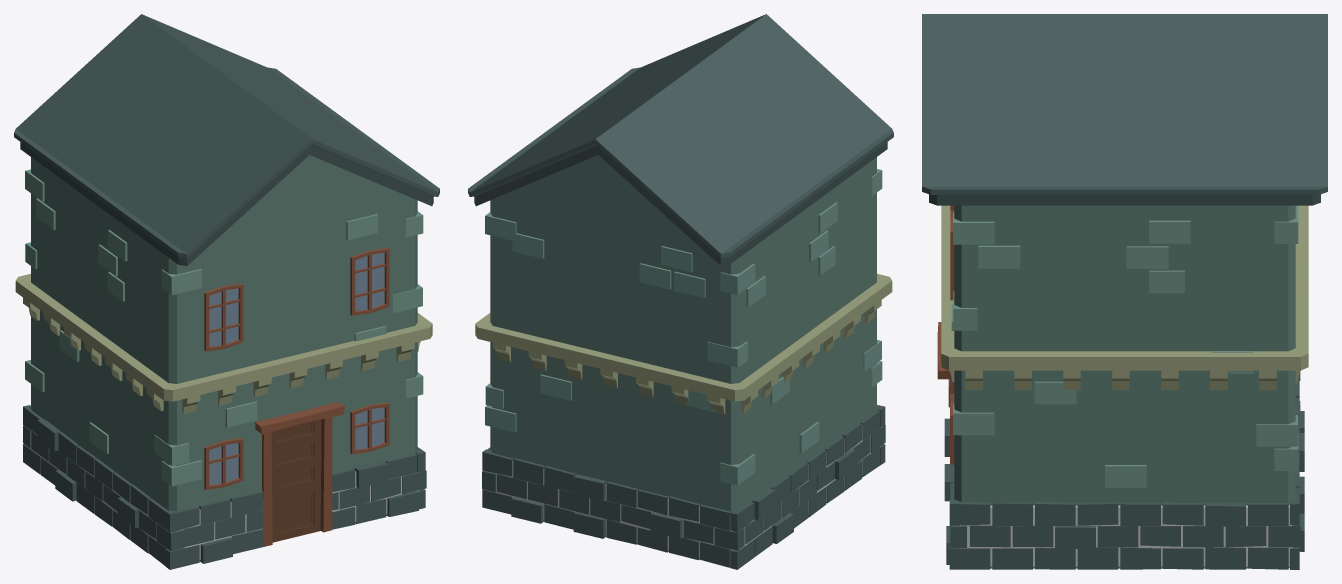
File: small-building-c.high.glb
3 views of the same model, side by side, from view 1: azimuth 30°, elevation 25°; view 2: azimuth 150°, elevation 25°; view 3: azimuth 270°, elevation 25° (orthographic). The views are drawn at different scales.
Visible parts, largest first — view 1: 2Story_GableRoof_Mat; view 2: 2Story_GableRoof_Mat; view 3: 2Story_GableRoof_Mat.
Boxes of the visible parts, left/top/right/bottom form: 2Story_GableRoof_Mat: left=14, top=14, right=439, bottom=569; 2Story_GableRoof_Mat: left=468, top=14, right=893, bottom=569; 2Story_GableRoof_Mat: left=922, top=14, right=1327, bottom=569.
Size of the model in its own units: 2.16 by 3.13 by 2.38.
